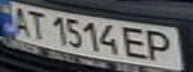1: (45, 13, 69, 46), (78, 19, 100, 53)
4: (96, 21, 121, 56)
5: (63, 17, 84, 50)
A: (3, 3, 33, 38)
E: (121, 25, 151, 61)
P: (142, 28, 181, 64)
T: (24, 8, 51, 41)
